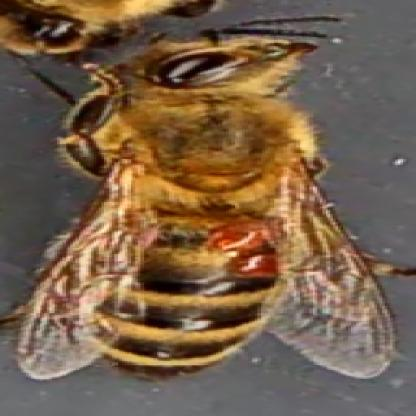bee: (87, 47, 312, 386)
vaoora: (239, 254, 278, 278), (214, 232, 256, 247)
